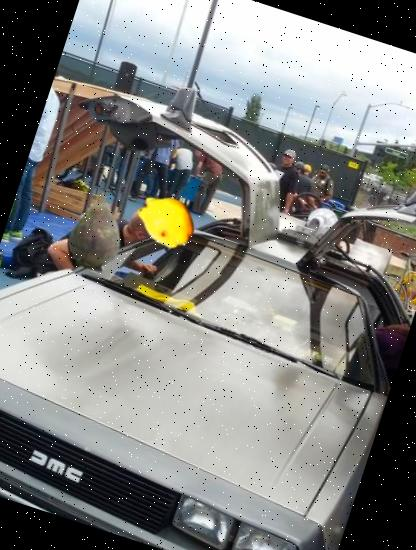Beetroot: (44, 177, 152, 284)
Quince: (129, 182, 205, 258)
